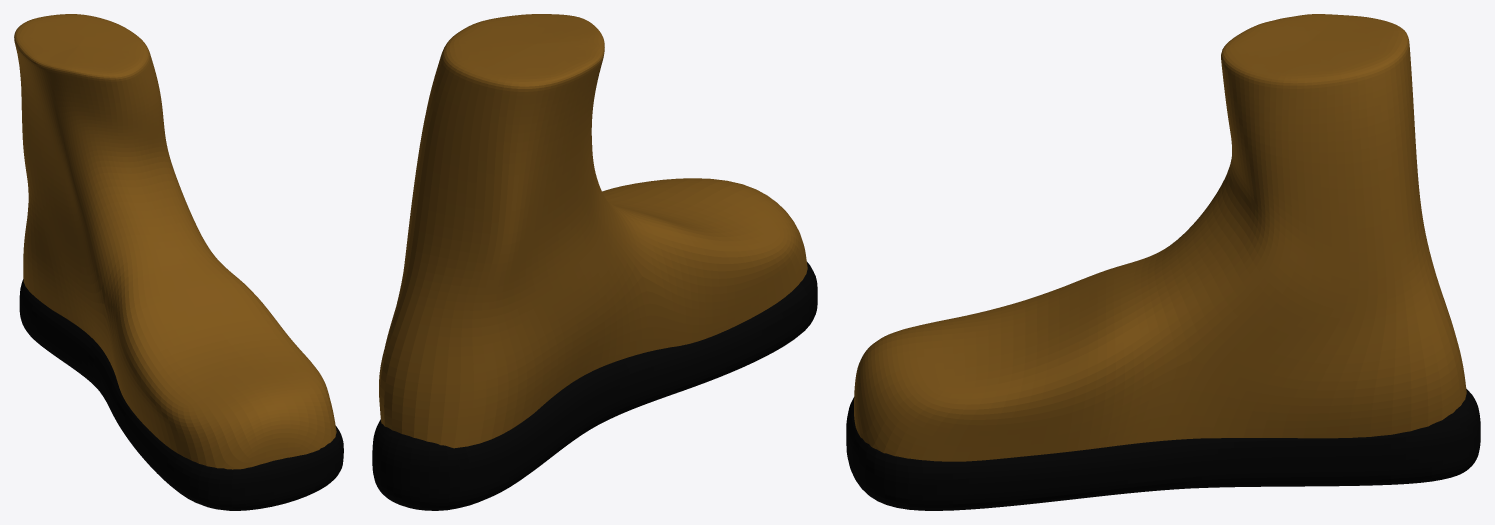
Rendered from BOTINOK.fbx.
3 views of the same model, side by side, from view 1: azimuth 30°, elevation 25°; view 2: azimuth 150°, elevation 25°; view 3: azimuth 270°, elevation 25° (orthographic). The views are drawn at different scales.
Visible parts, largest first — view 1: Plane.015, Plane.016; view 2: Plane.015, Plane.016; view 3: Plane.015, Plane.016.
Part boxes in pixels (<box>): Plane.015: <box>14,14,336,469</box>; Plane.016: <box>19,279,343,510</box>; Plane.015: <box>379,14,807,448</box>; Plane.016: <box>372,262,817,510</box>; Plane.015: <box>854,14,1466,461</box>; Plane.016: <box>846,389,1480,510</box>.
Bounding box in the file's own units: 12.04 × 24.17 × 32.61.
